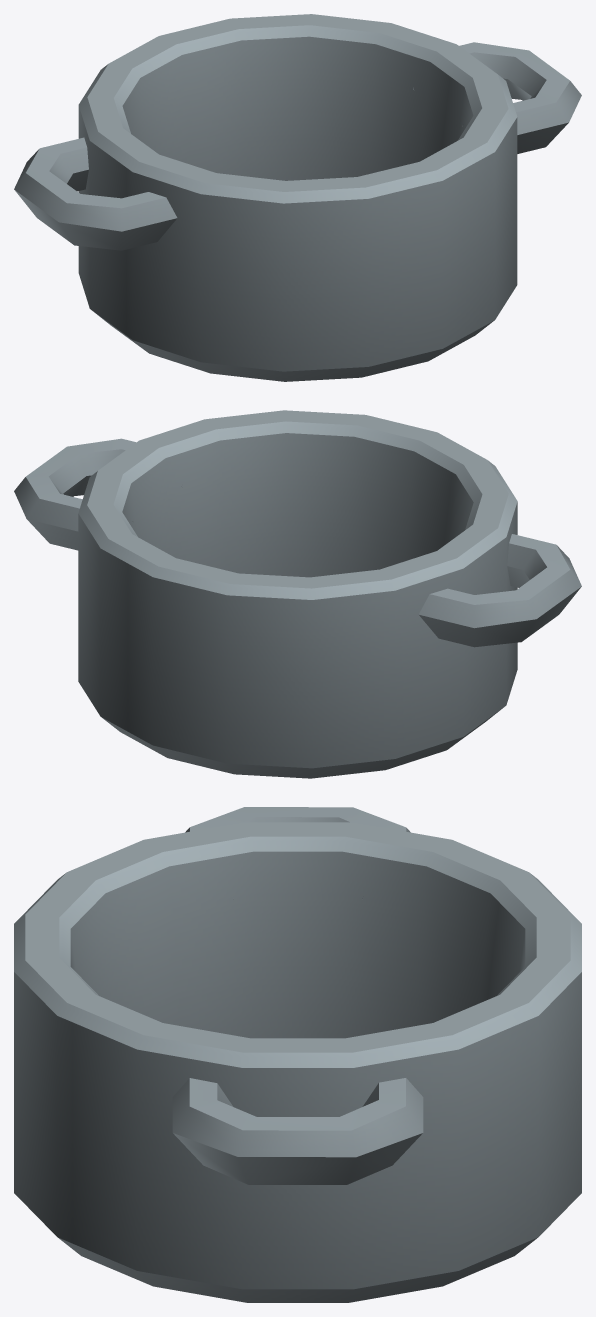
Rendered from pot_A.obj.
3 renders of one model, top to bottom at view 1: azimuth 30°, elevation 25°; view 2: azimuth 150°, elevation 25°; view 3: azimuth 270°, elevation 25°, orthographic. The views are drawn at different scales.
Visible parts, largest first — view 1: pot_A_Cylinder.197; view 2: pot_A_Cylinder.197; view 3: pot_A_Cylinder.197.
Part boxes in pixels (box(x1,y1,x2,y2)): pot_A_Cylinder.197: box(14, 14, 581, 381); pot_A_Cylinder.197: box(14, 410, 581, 778); pot_A_Cylinder.197: box(14, 807, 581, 1302).
Bounding box in the file's own units: 1.4 × 0.5 × 1.
Materials: 1 (1 with a texture image).
